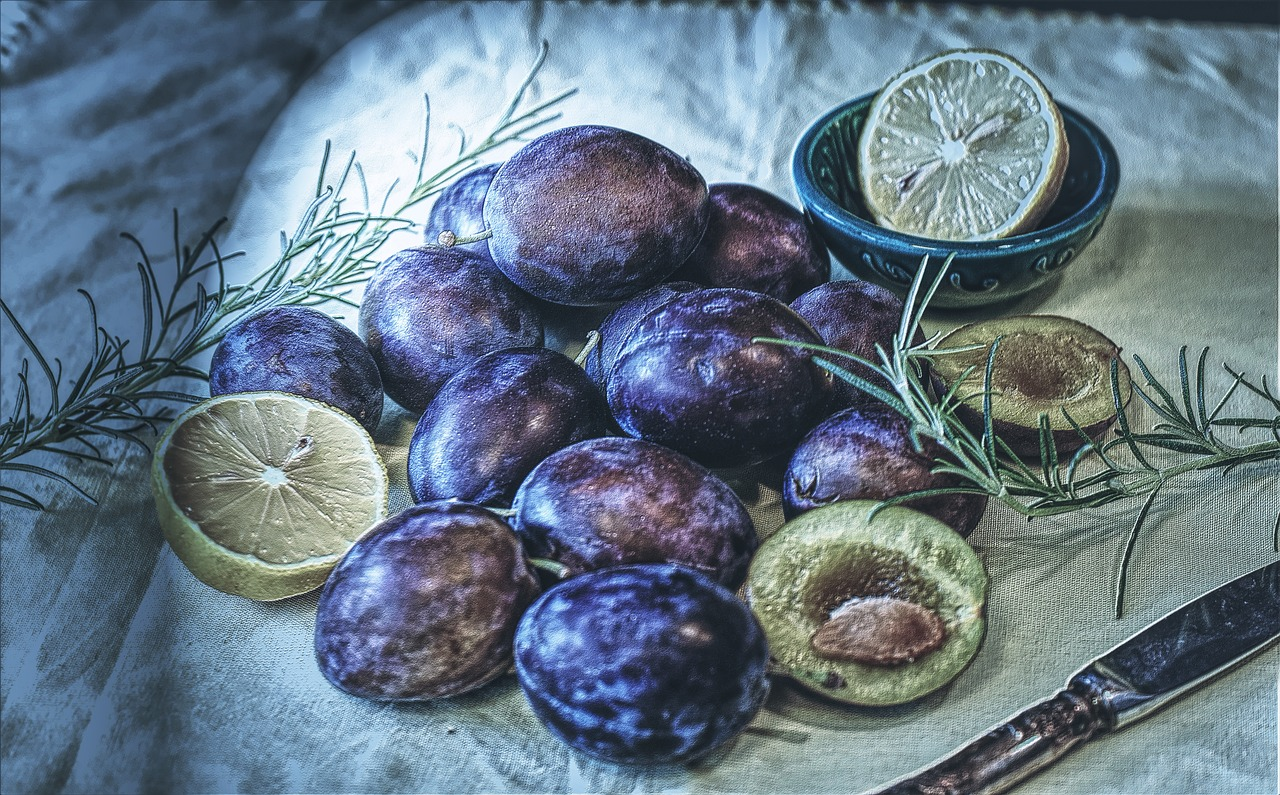knife: (838, 546, 1280, 795)
